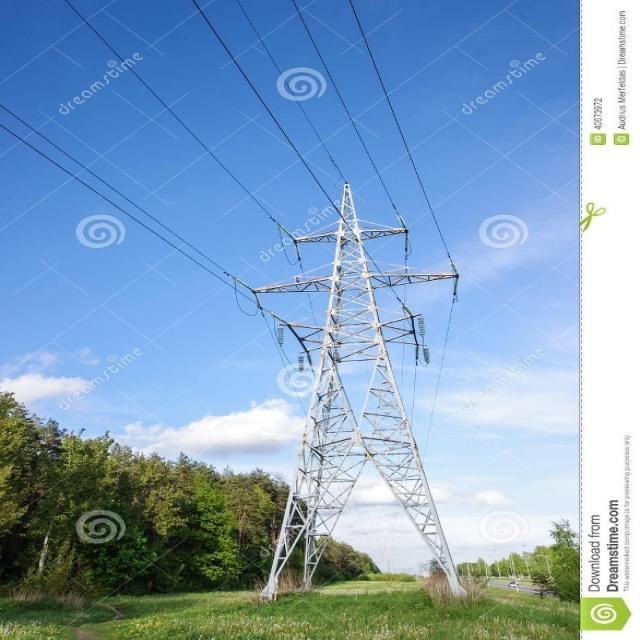non-critical vegetation: (234, 183, 492, 602)
